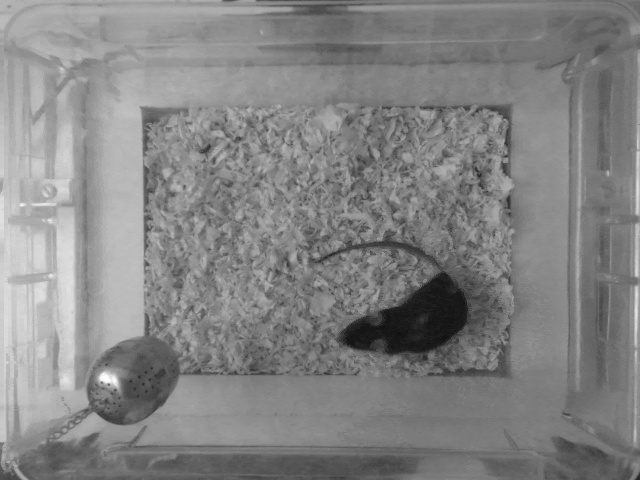mice: (310, 236, 475, 359)
